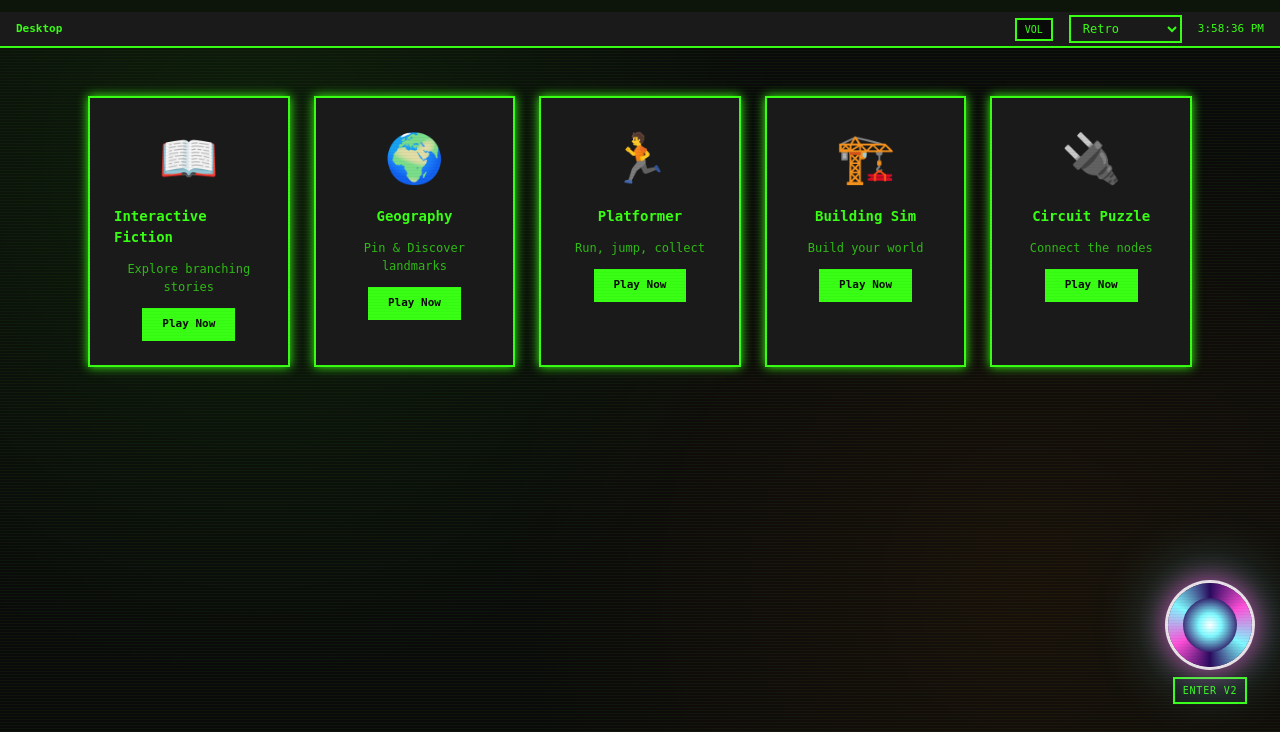
Test: App › wires the volume control to a mounted sound provider
The image size is (1280, 732).
Click the button with aria-label "Volume" at (1034, 29), box left=1015, top=18, right=1053, bottom=40
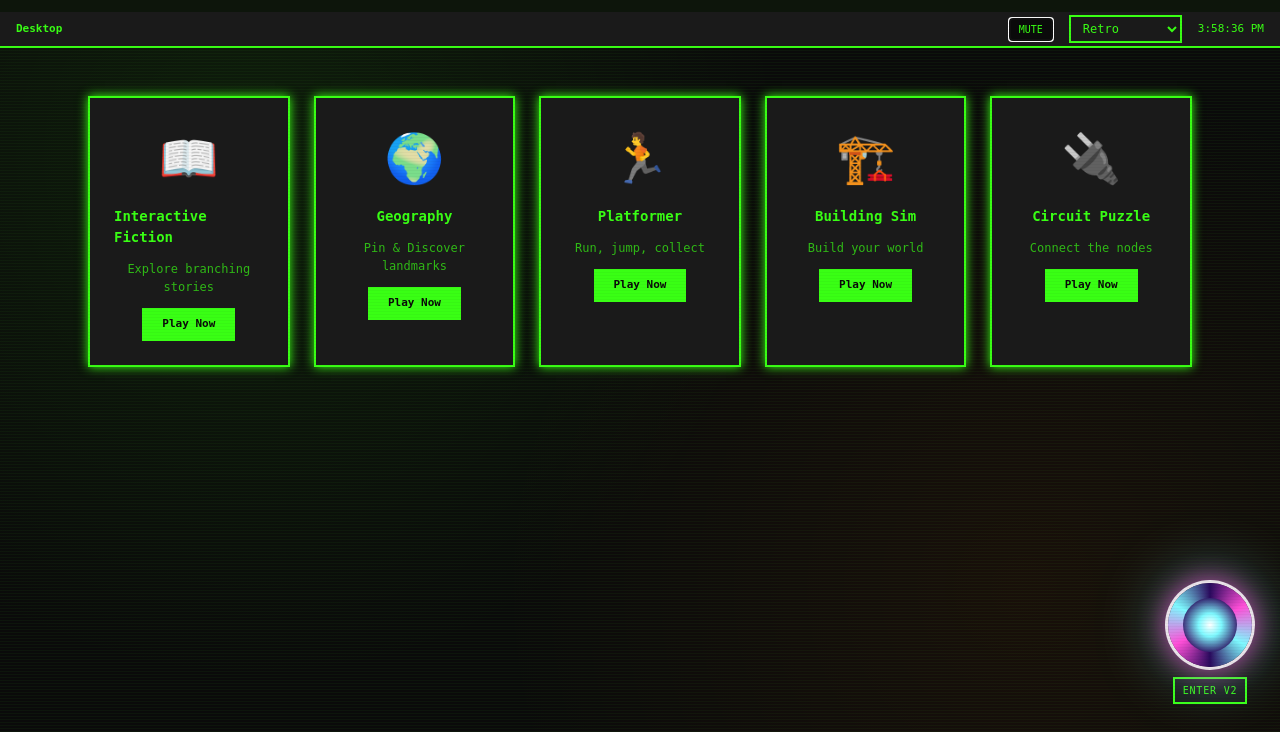
Check: the button with aria-label "Volume" reads "MUTE"
Click the button with aria-label "Volume" at (1031, 29), box left=1009, top=18, right=1053, bottom=40
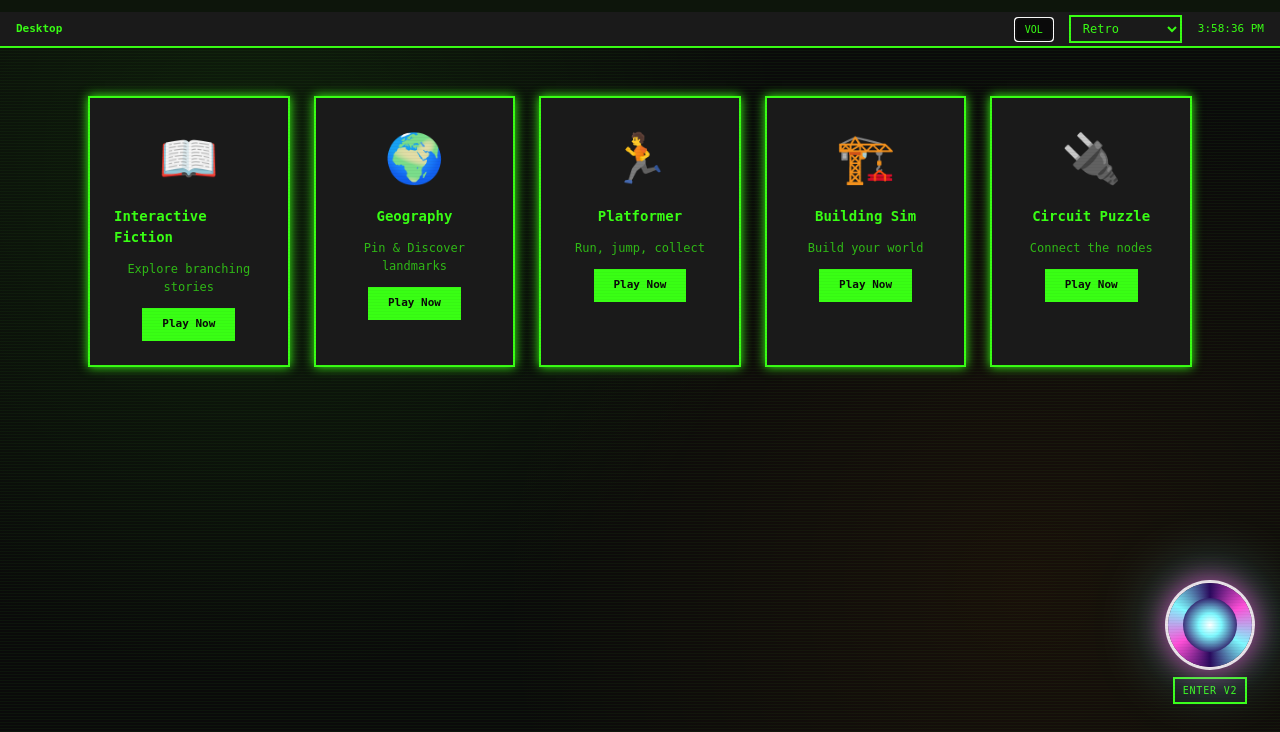
Check: the button with aria-label "Volume" reads "VOL", box left=1015, top=18, right=1053, bottom=40
